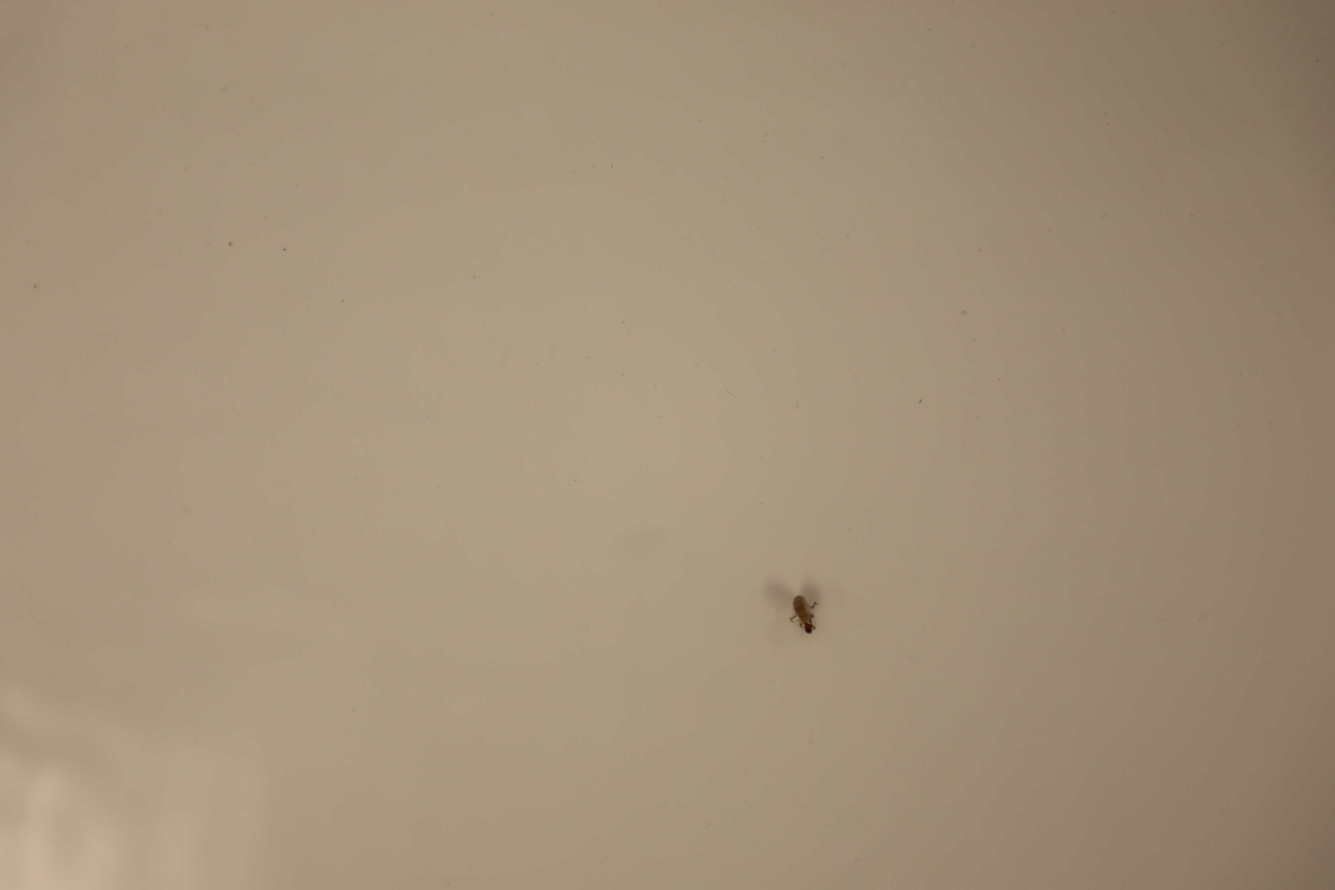Cadisfly: (784, 594, 827, 634)
